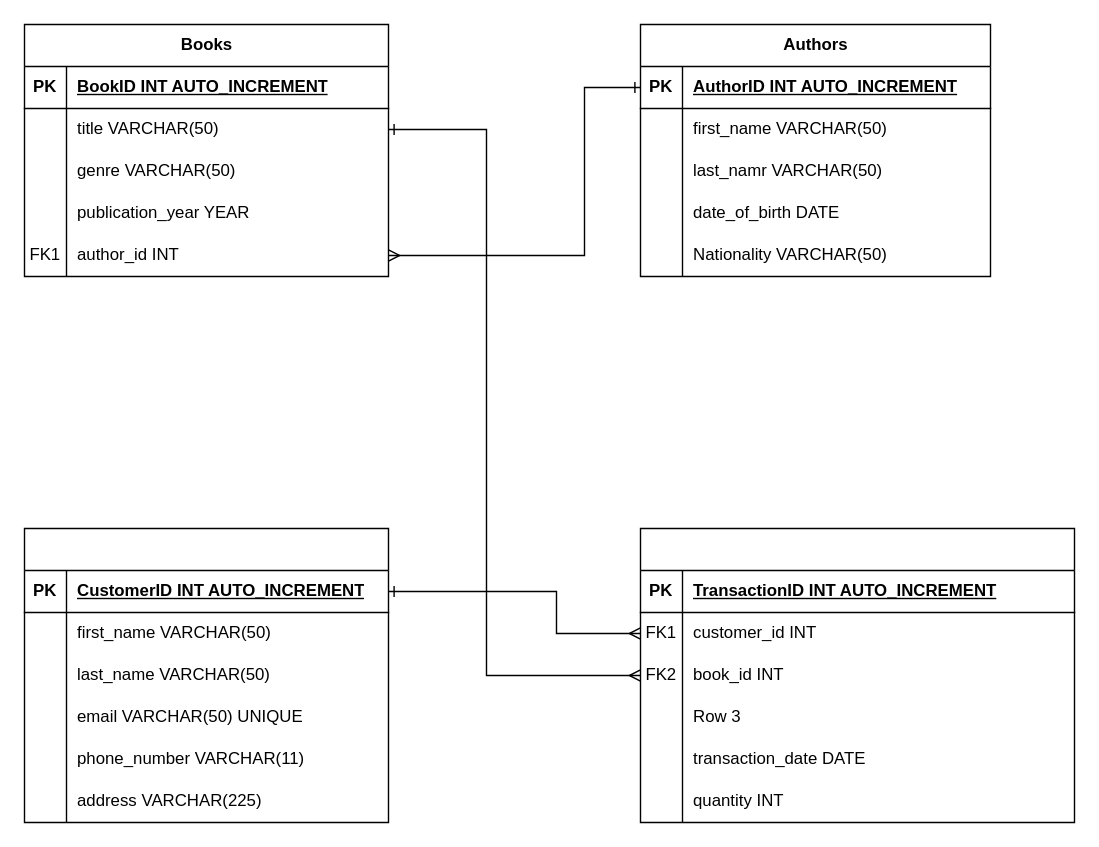
Image size: 1099x847. Some labels were removed from this diagram. Here are the shapes that lost their labels. From the top down, the box of each, then its label:
(23, 527, 388, 822): Customers
(639, 527, 1074, 822): Transactions
